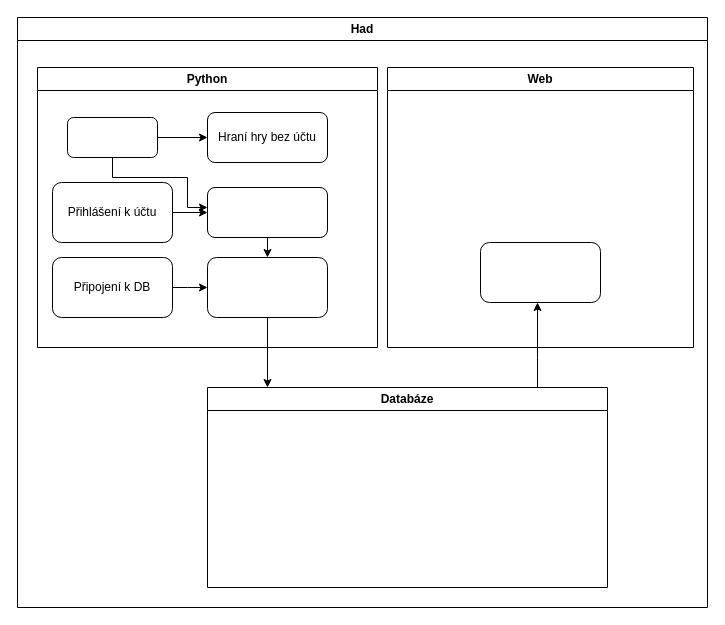
Image size: 725x625. Some labels were removed from this diagram. The shapes that lost their labels are listed below. From the top down, each one's centre as x and y in pixels, then its label:
point (112, 137): Hraní hry
point (267, 212): Hraní hry pod účtem
point (267, 287): Uložení výsledků do DB
point (540, 272): Zobrazení žebříčku
